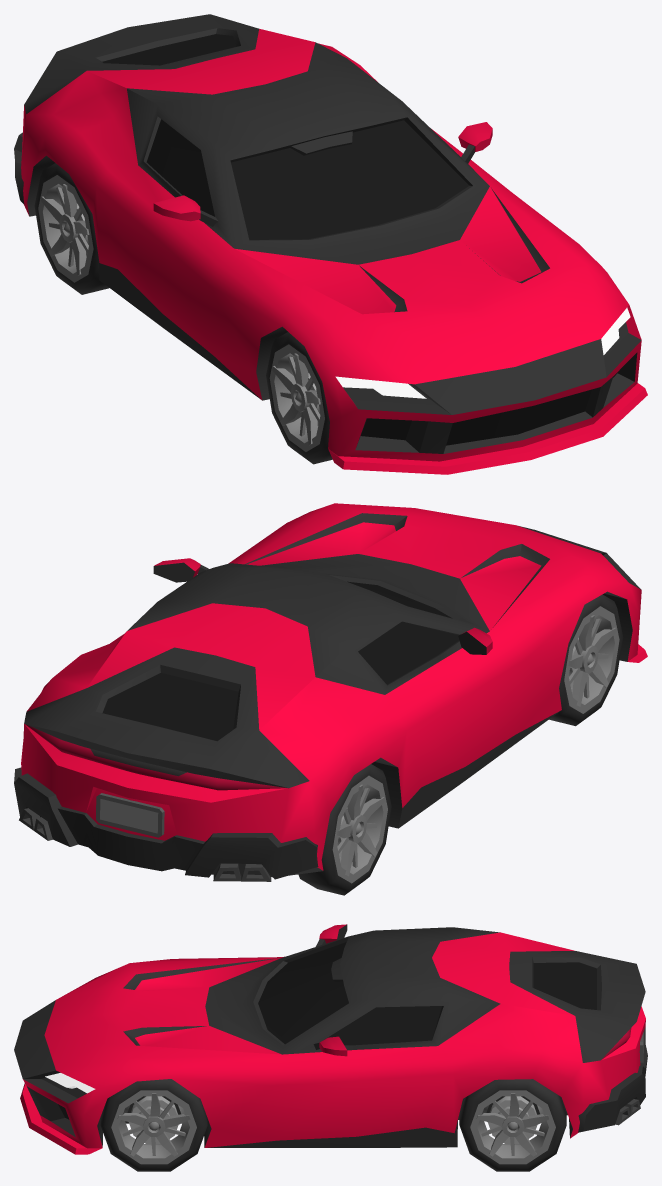
Rendered from cilo.glb.
3 renders of one model, top to bottom at view 1: azimuth 30°, elevation 25°; view 2: azimuth 150°, elevation 25°; view 3: azimuth 270°, elevation 25°, orthographic. The views are drawn at different scales.
Visible parts, largest first — view 1: cilo, wheel1.022, wheel1.021; view 2: cilo, wheel1.022, wheel1.021; view 3: cilo, wheel1.007, wheel1.020.
Part boxes in pixels (left/top/right/bottom): cilo: left=14, top=14, right=647, bottom=474; wheel1.022: left=34, top=163, right=108, bottom=294; wheel1.021: left=266, top=332, right=332, bottom=464; cilo: left=14, top=503, right=647, bottom=881; wheel1.022: left=298, top=764, right=391, bottom=895; wheel1.021: left=549, top=594, right=623, bottom=726; cilo: left=14, top=924, right=647, bottom=1154; wheel1.007: left=459, top=1079, right=566, bottom=1171; wheel1.020: left=100, top=1079, right=207, bottom=1171.
Bounding box in the file's own units: 3.18 × 1.88 × 6.76.
Materials: 3 (3 with a texture image).
